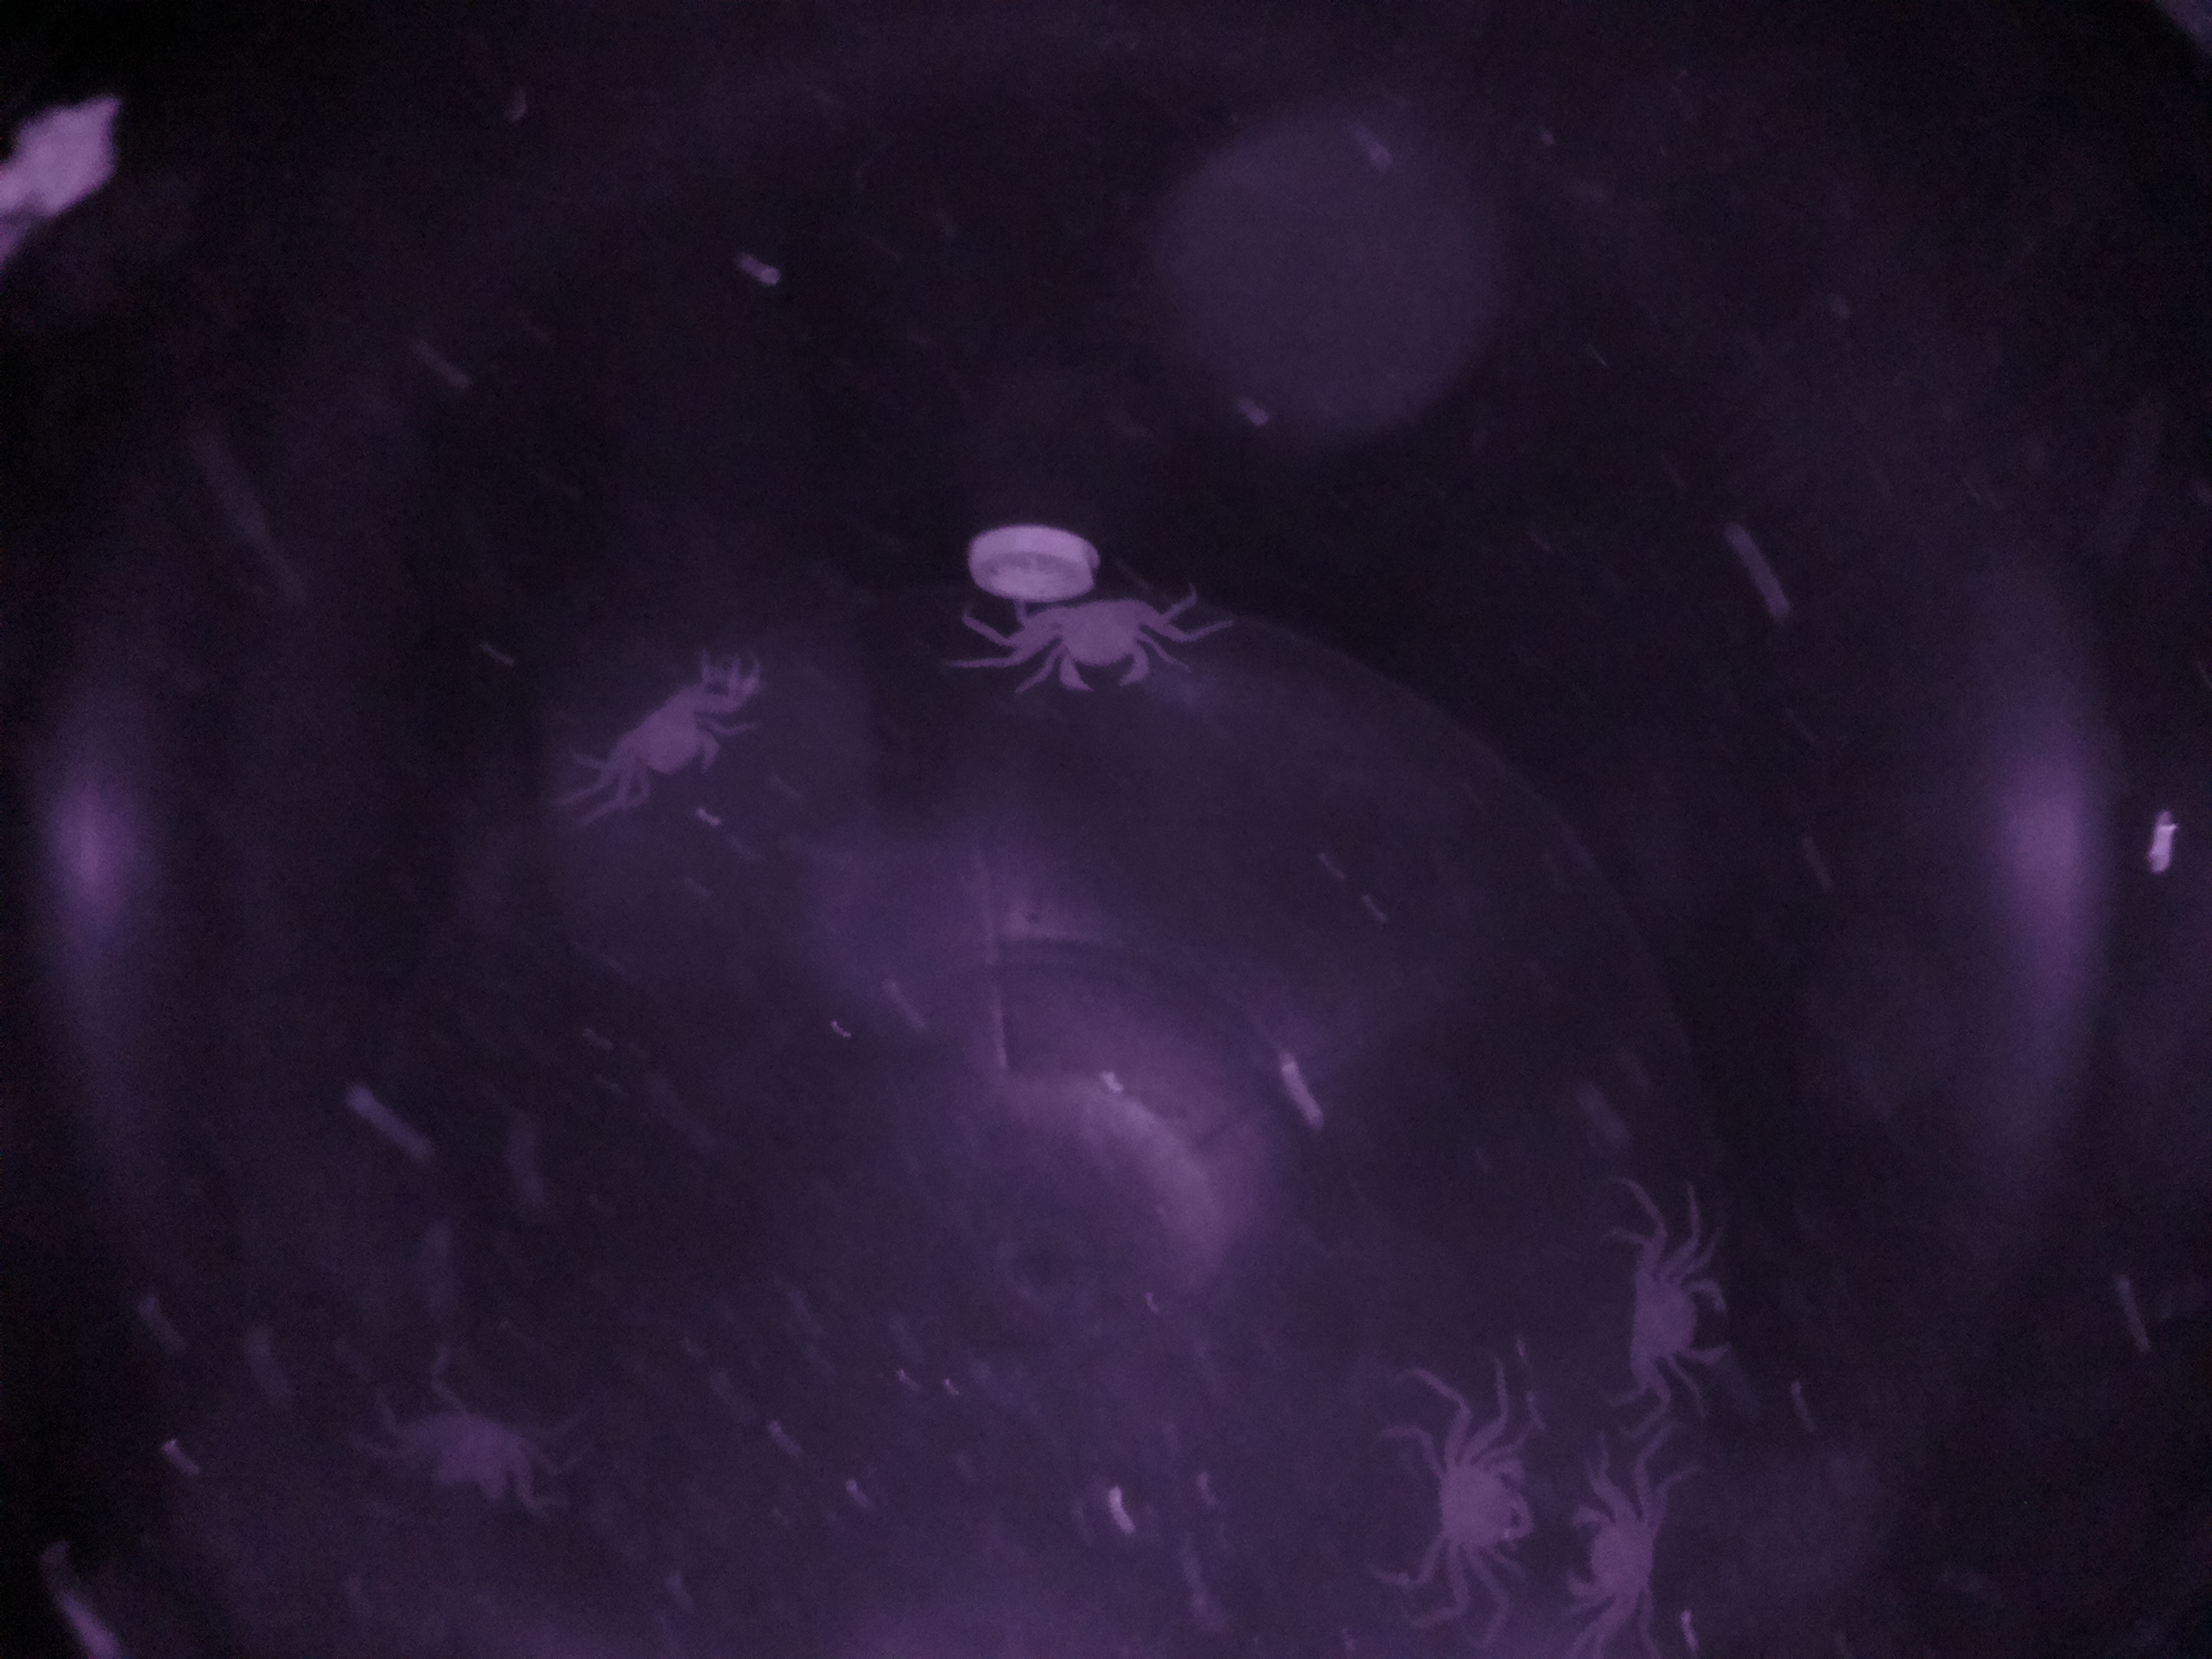Crab: (1404, 1396, 1543, 1595), (995, 575, 1188, 708), (585, 660, 751, 805), (1555, 1455, 1681, 1640), (1618, 1230, 1745, 1389)
